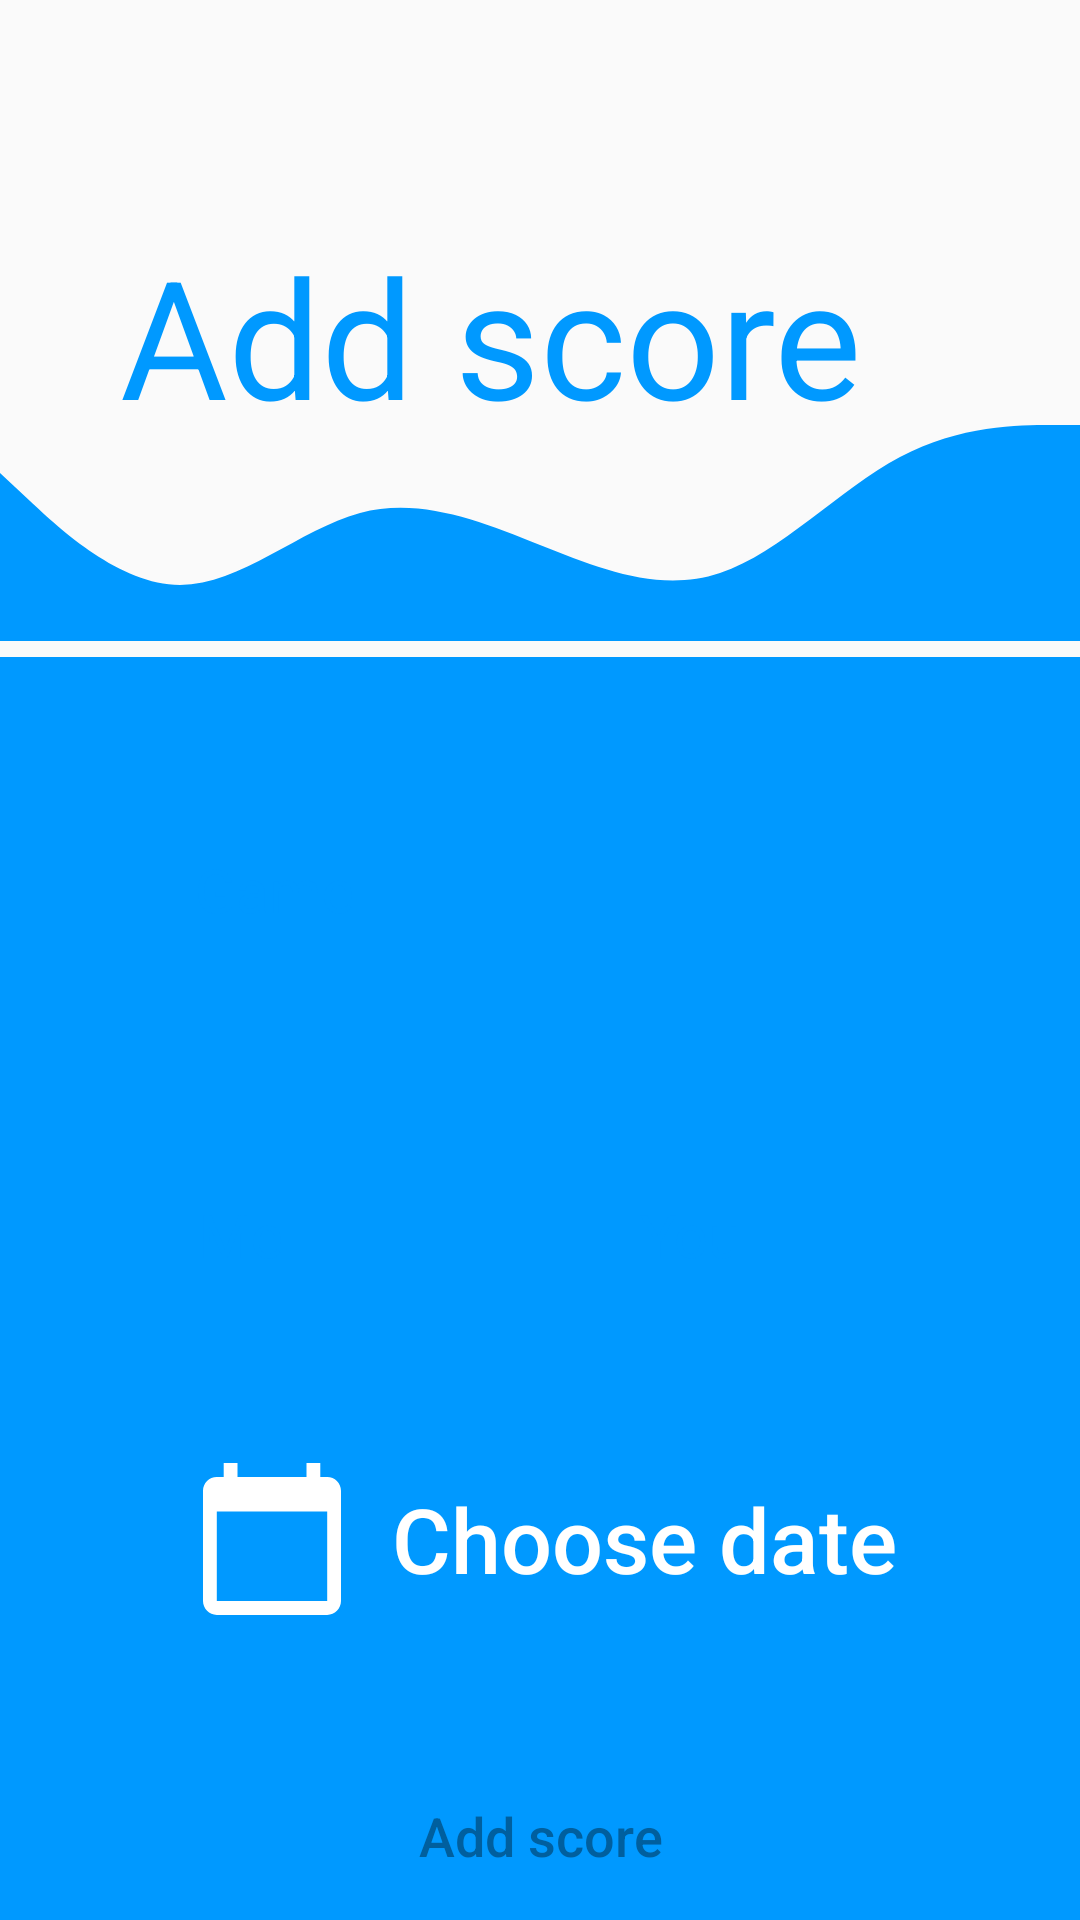

Where icons sit on this 1080w x 1920h app screen, as (left=x1, top=y1, right=x2, bottom=y2):
calender: (left=203, top=1463, right=341, bottom=1615)
